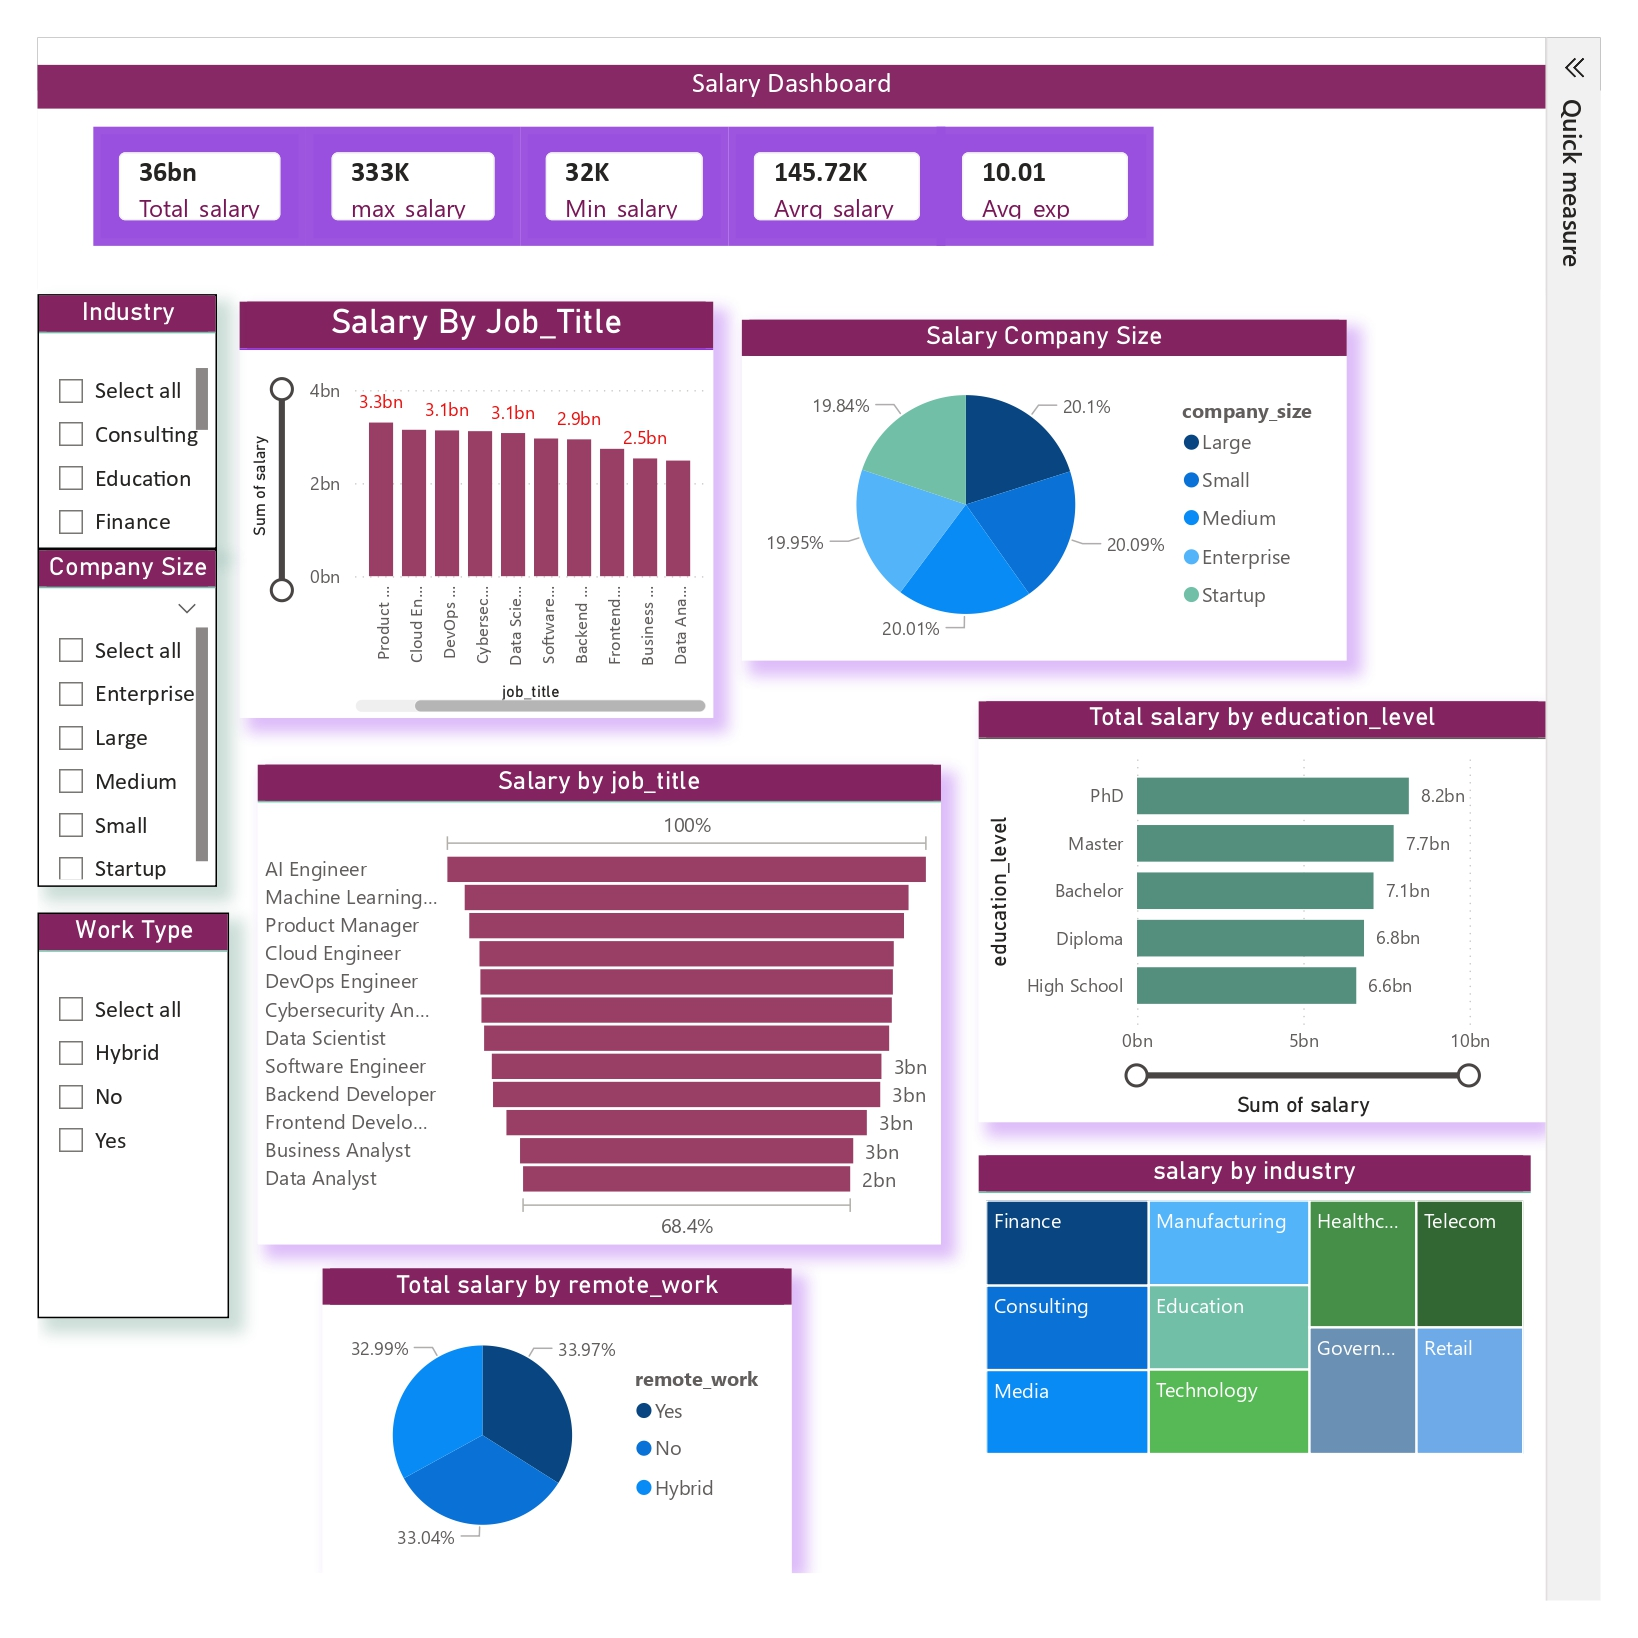

Layout of this report page (visuals, bound fields, positions):
{"tool":"powerbi","page":{"name":"Salary Dashboard","canvas":[1000,1000],"ordinal":0},"visuals":[{"type":"clusteredColumnChart","title":"Salary By Job_Title","fields":{"Category":["job_salary_prediction_dataset.job_title"],"Y":["Sum(job_salary_prediction_dataset.salary)","select"]},"box":[134,165,409,264],"z":0},{"type":"slicer","title":"Industry","fields":{"Values":["job_salary_prediction_dataset.industry"]},"box":[0,39,119,169],"z":1000},{"type":"funnel","title":" Salary by job_title","fields":{"Category":["job_salary_prediction_dataset.job_title"],"Y":["job_salary_prediction_dataset.Total_salar"]},"box":[146,464,453,318],"z":2000},{"type":"clusteredBarChart","title":"Total salary by education_level","fields":{"Category":["job_salary_prediction_dataset.education_level"],"Y":["Sum(job_salary_prediction_dataset.salary)"]},"box":[624,422,376,279],"z":3000},{"type":"pieChart","title":"Total salary by remote_work","fields":{"Y":["Sum(job_salary_prediction_dataset.salary)"],"Category":["job_salary_prediction_dataset.remote_work"]},"box":[189,798,311,202],"z":4000},{"type":"slicer","title":"Company Size","fields":{"Values":["job_salary_prediction_dataset.company_size"]},"box":[0,230,119,224],"z":5000},{"type":"pieChart","title":"Salary Company Size","fields":{"Y":["Sum(job_salary_prediction_dataset.Sal)"],"Category":["job_salary_prediction_dataset.company_size"]},"box":[588,157,401,226],"z":6000},{"type":"treemap","title":" salary by industry","fields":{"Group":["job_salary_prediction_dataset.industry"],"Values":["Sum(job_salary_prediction_dataset.salary)"]},"box":[624,723,366,202],"z":7000},{"type":"slicer","title":"Work Type","fields":{"Values":["job_salary_prediction_dataset.remote_work"]},"box":[0,464,127,269],"z":8000},{"type":"textbox","title":"Salary Dashboard","box":[0,0,1000,29],"z":9000},{"type":"cardVisual","fields":{"Data":["job_salary_prediction_dataset.max_salary"]},"box":[397,39,176,110],"z":10000},{"type":"cardVisual","fields":{"Data":["job_salary_prediction_dataset.Total_salary"]},"box":[134,39,243,110],"z":11000},{"type":"cardVisual","fields":{"Data":["job_salary_prediction_dataset.Min_salary"]},"box":[588,39,176,110],"z":12000},{"type":"cardVisual","fields":{"Data":["job_salary_prediction_dataset.Avrg_salary"]},"box":[774,39,176,110],"z":13000}]}

Visuals, with their boxes in screenshot pixels (x1, y1, x2, y2):
"Salary By Job_Title" clusteredColumnChart: (239,317,876,728)
"Industry" slicer: (30,120,215,384)
" Salary by job_title" funnel: (257,783,963,1278)
"Total salary by education_level" clusteredBarChart: (1002,717,1588,1152)
"Total salary by remote_work" pieChart: (324,1303,809,1618)
"Company Size" slicer: (30,418,215,767)
"Salary Company Size" pieChart: (946,304,1571,656)
" salary by industry" treemap: (1002,1186,1572,1501)
"Work Type" slicer: (30,783,228,1202)
"Salary Dashboard" textbox: (30,60,1588,105)
cardVisual - job_salary_prediction_dataset.max_salary: (648,120,923,292)
cardVisual - job_salary_prediction_dataset.Total_salary: (239,120,617,292)
cardVisual - job_salary_prediction_dataset.Min_salary: (946,120,1220,292)
cardVisual - job_salary_prediction_dataset.Avrg_salary: (1236,120,1510,292)
